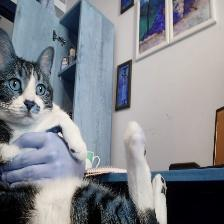kedo: (0, 28, 167, 224)
